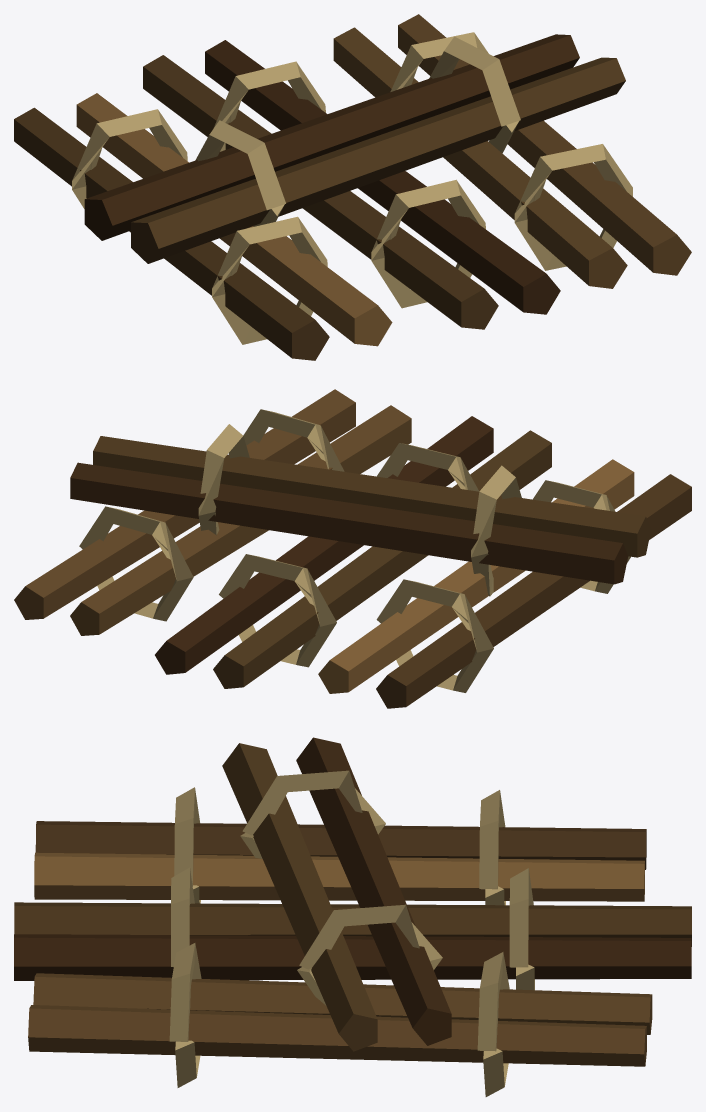
Rendered from storage_splint.glb.
The picture shows the model from 3 angles, top to bottom: view 1: azimuth 30°, elevation 25°; view 2: azimuth 150°, elevation 25°; view 3: azimuth 270°, elevation 25°; orthographic projection. The views are drawn at different scales.
Parts seen in each view (by area): view 1: storage_splint; view 2: storage_splint; view 3: storage_splint.
Boxes of the visible parts, bbox=[...] form: storage_splint: bbox=[14, 14, 691, 360]; storage_splint: bbox=[14, 389, 691, 708]; storage_splint: bbox=[14, 737, 691, 1096].
Bounding box in the file's own units: 1.05 × 0.2832 × 1.08.
